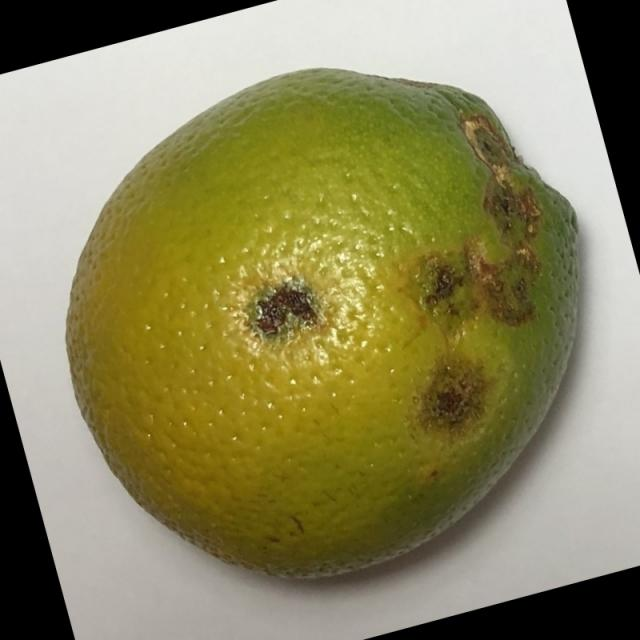canker: (50, 64, 606, 607)
